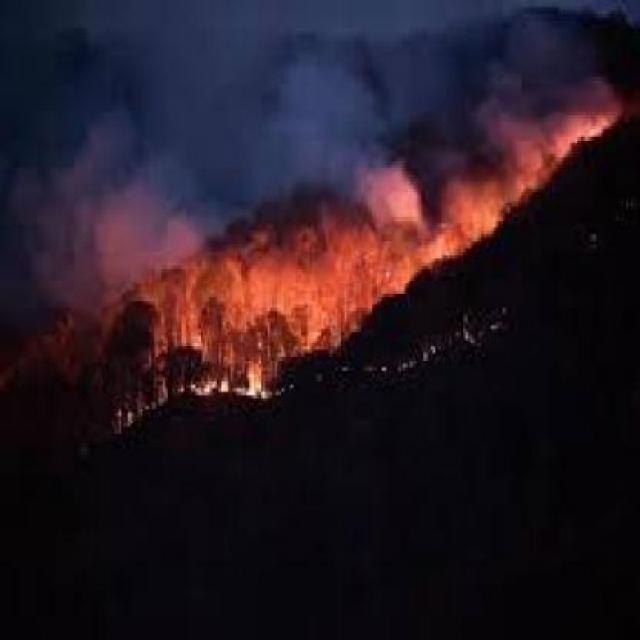Fire: (134, 350, 306, 440)
